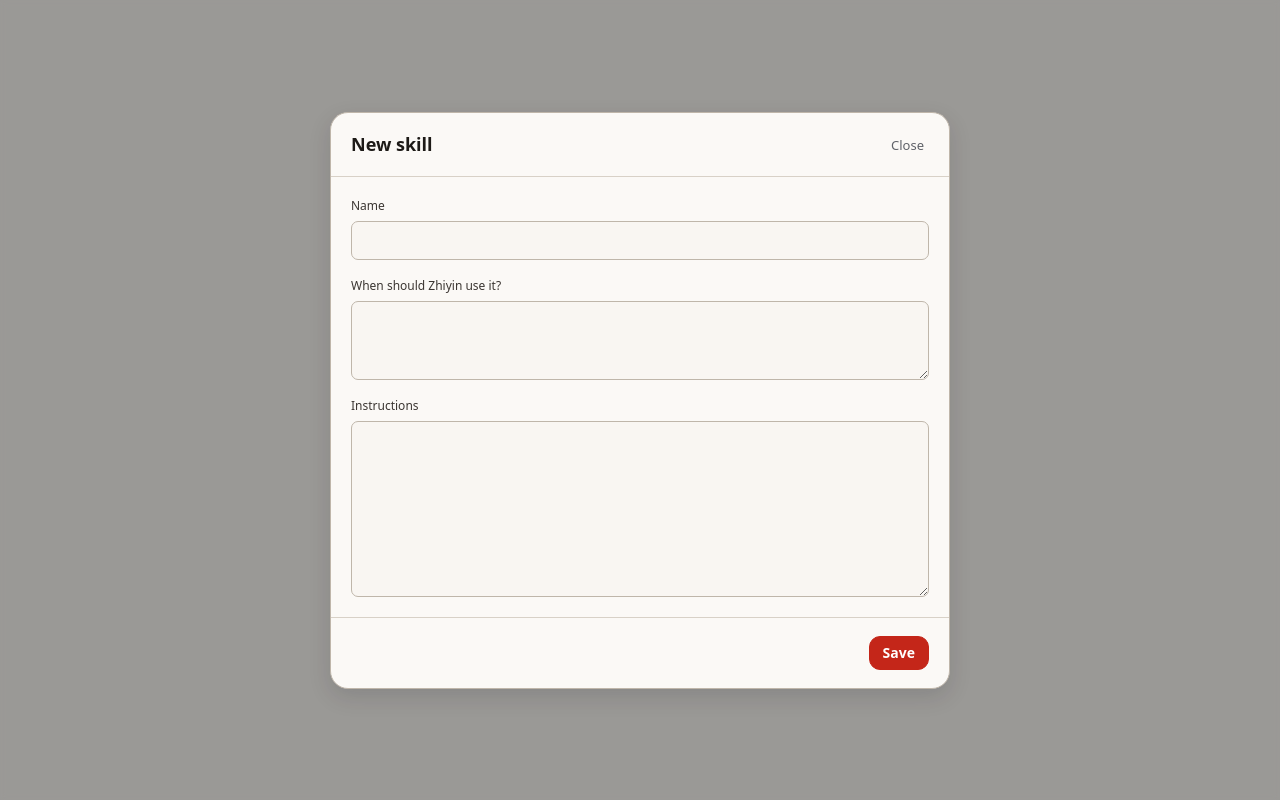
Test: ComponentEditor › validates required fields before saving a skill
Click the button "Save" at (899, 652), box [869,636,929,670]
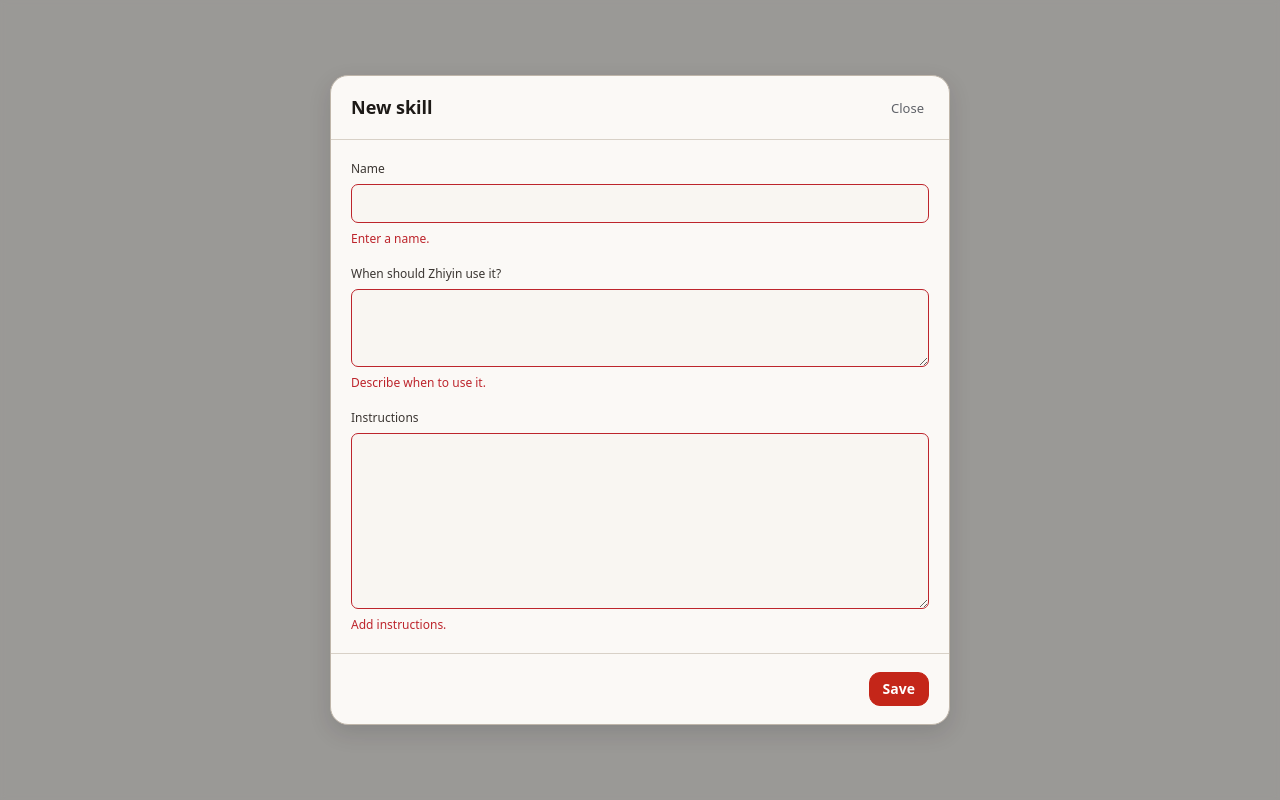
Result: the text "Enter a name." is shown at [351,230,430,247]
Result: the text "Describe when to use it." is shown at [351,374,486,391]
Result: the text "Add instructions." is shown at [351,616,446,633]
